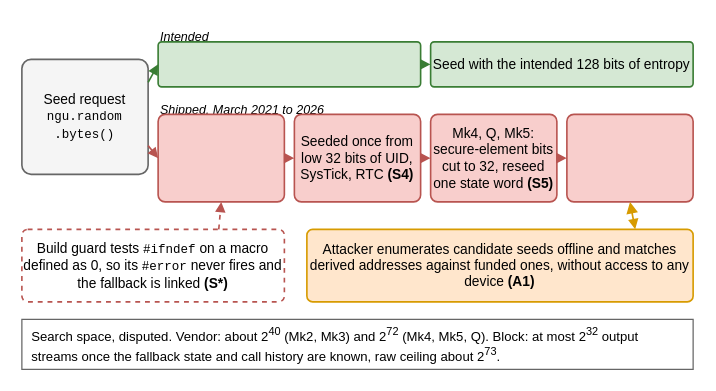
Image size: 716x391. Some labels were removed from this diagram. The box of each missing label's shape, as (x1, y1, x2, y2) in pixels:
BIP-39 phrase, BIP-32 keys, addresses on the public chain: (566, 113, 693, 202)
rng_get() calls the hardware TRNG wrapper: (157, 40, 421, 87)
rng_get() resolves to the Yasmarang PRNG (S3): (157, 113, 285, 202)
